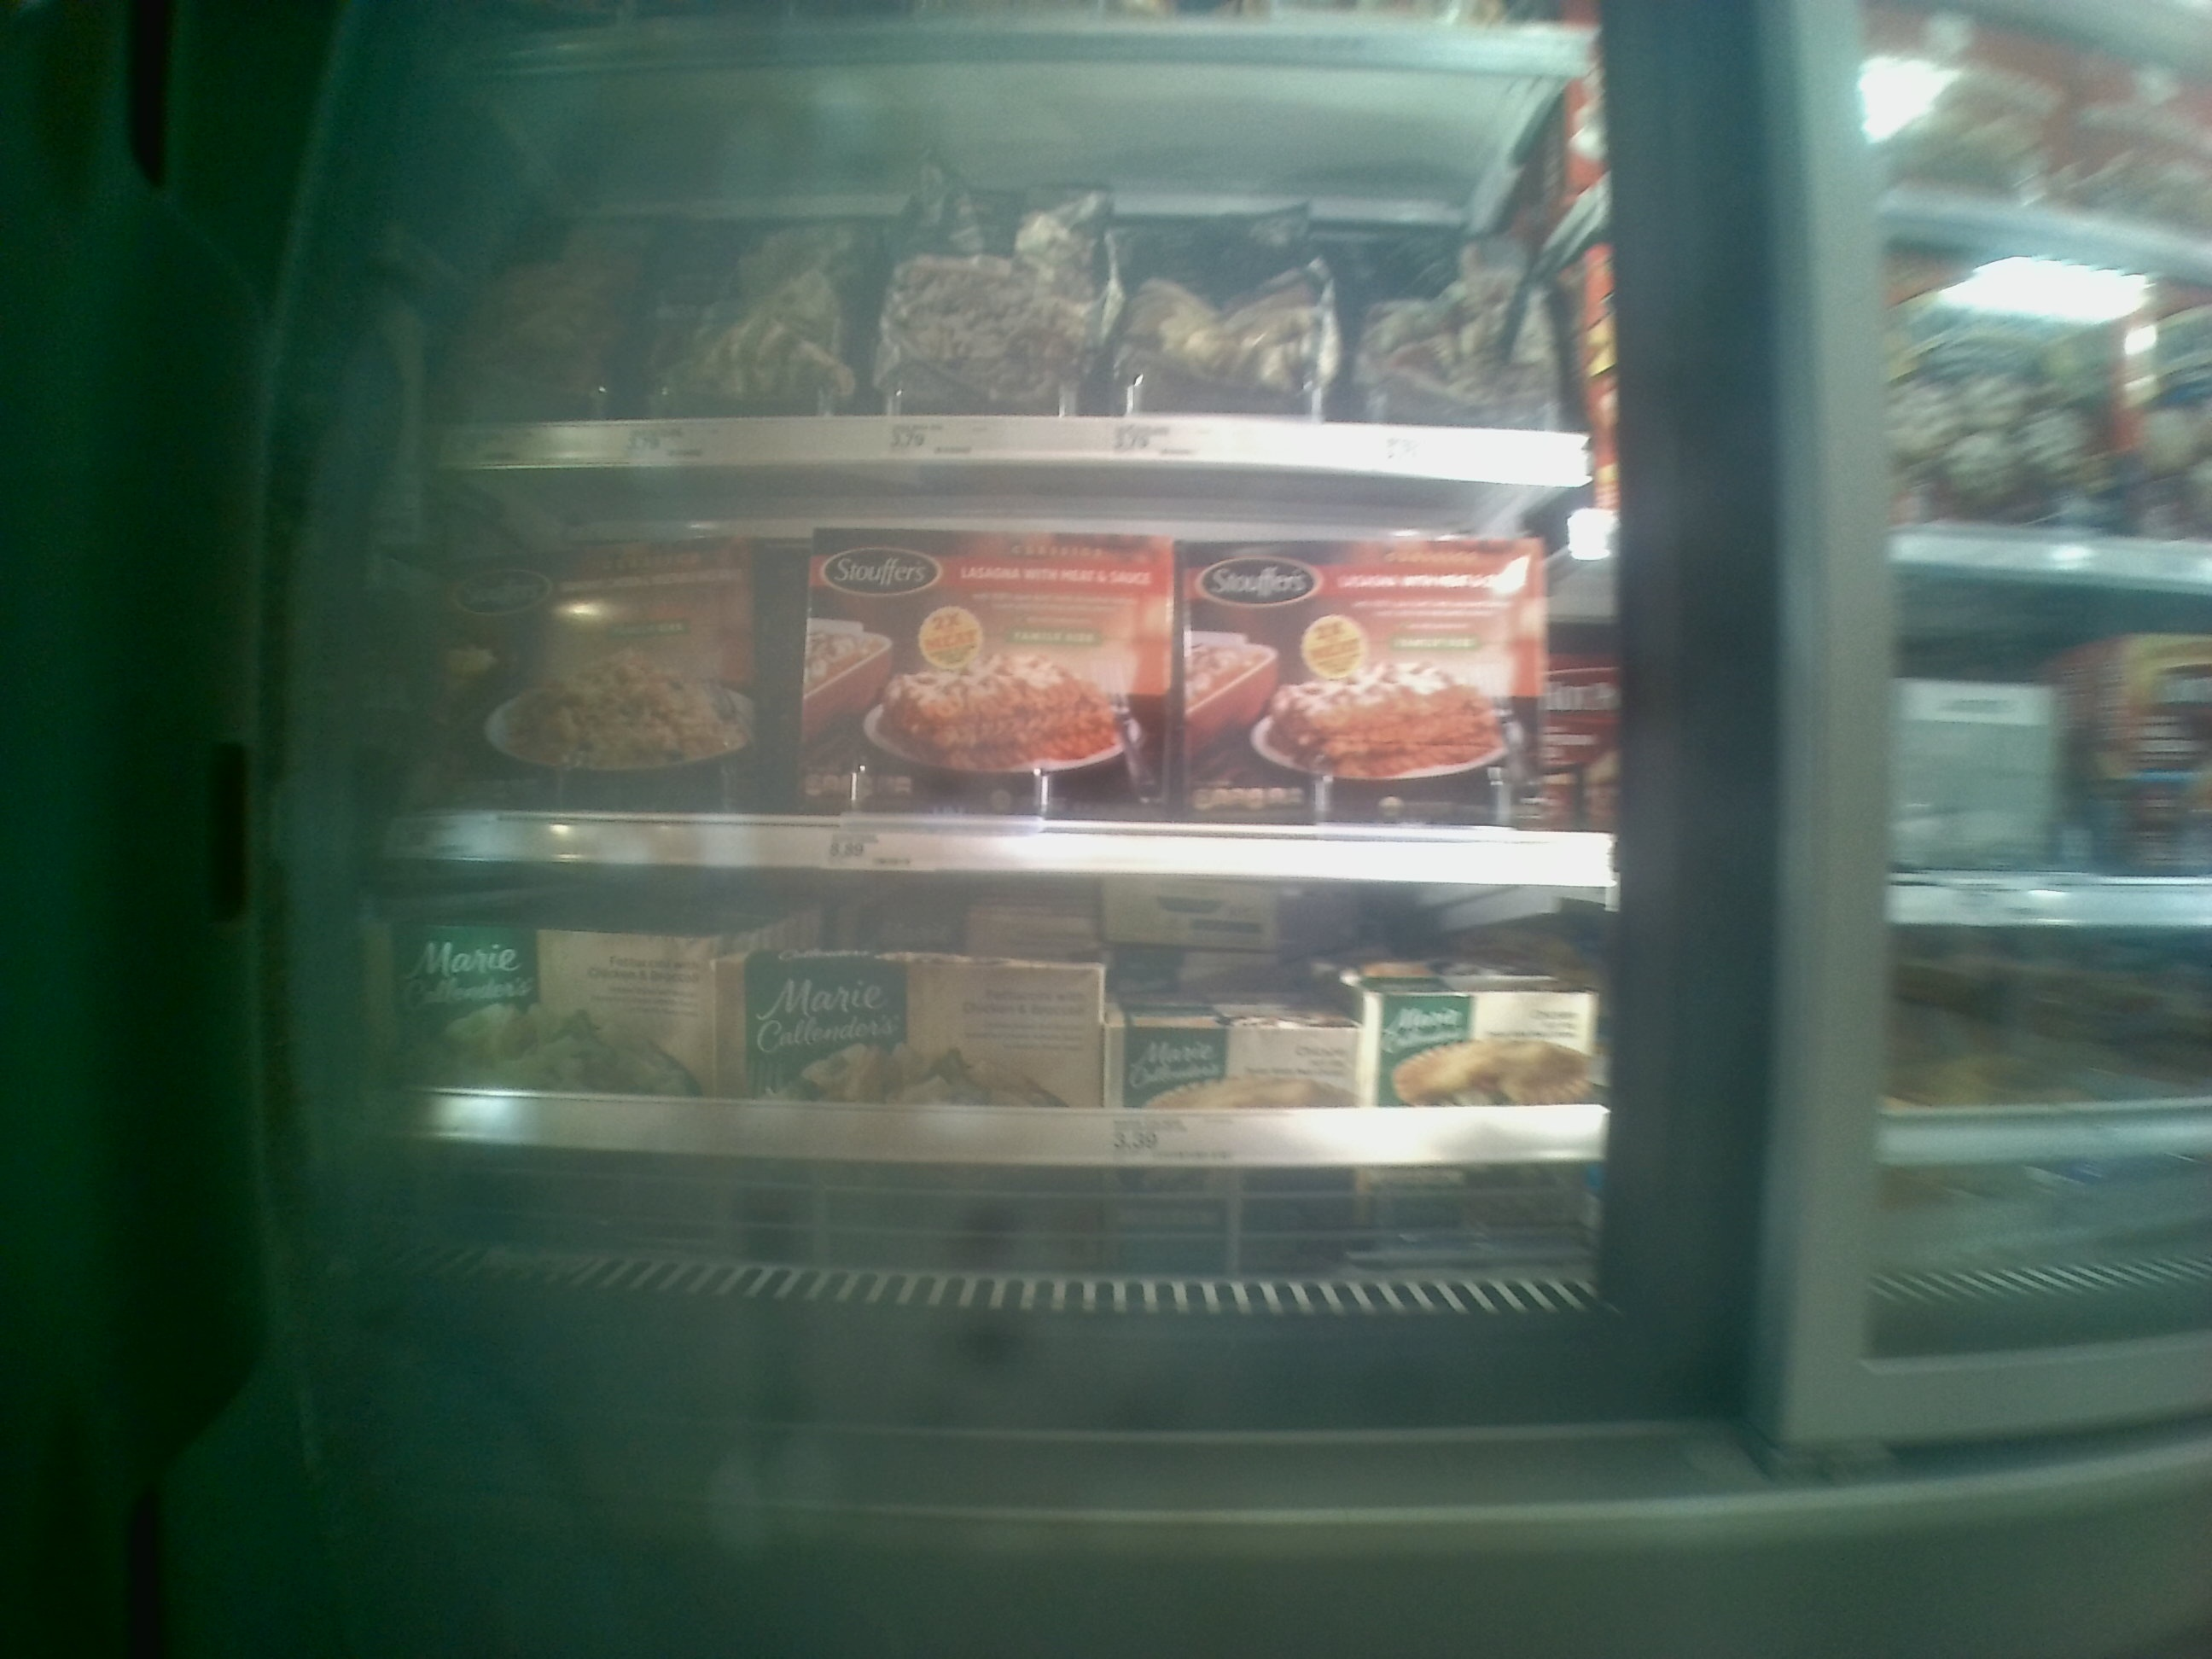shelf: (380, 854, 1609, 1309), (395, 448, 1611, 878)
